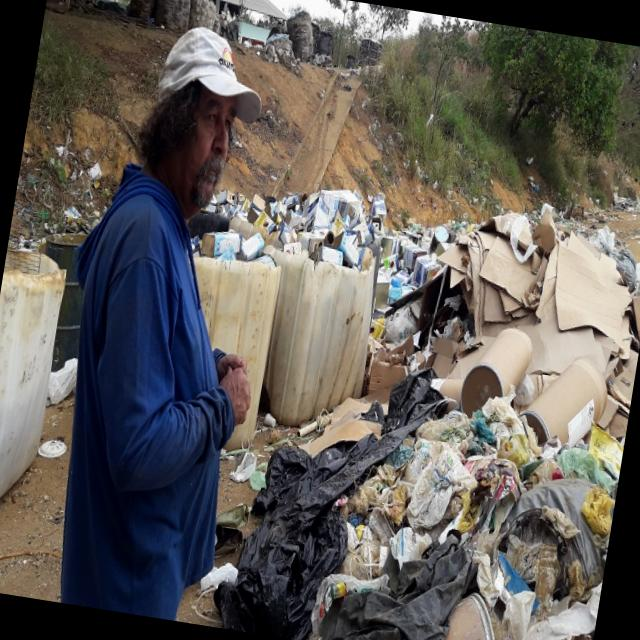garbage: (170, 159, 640, 640)
